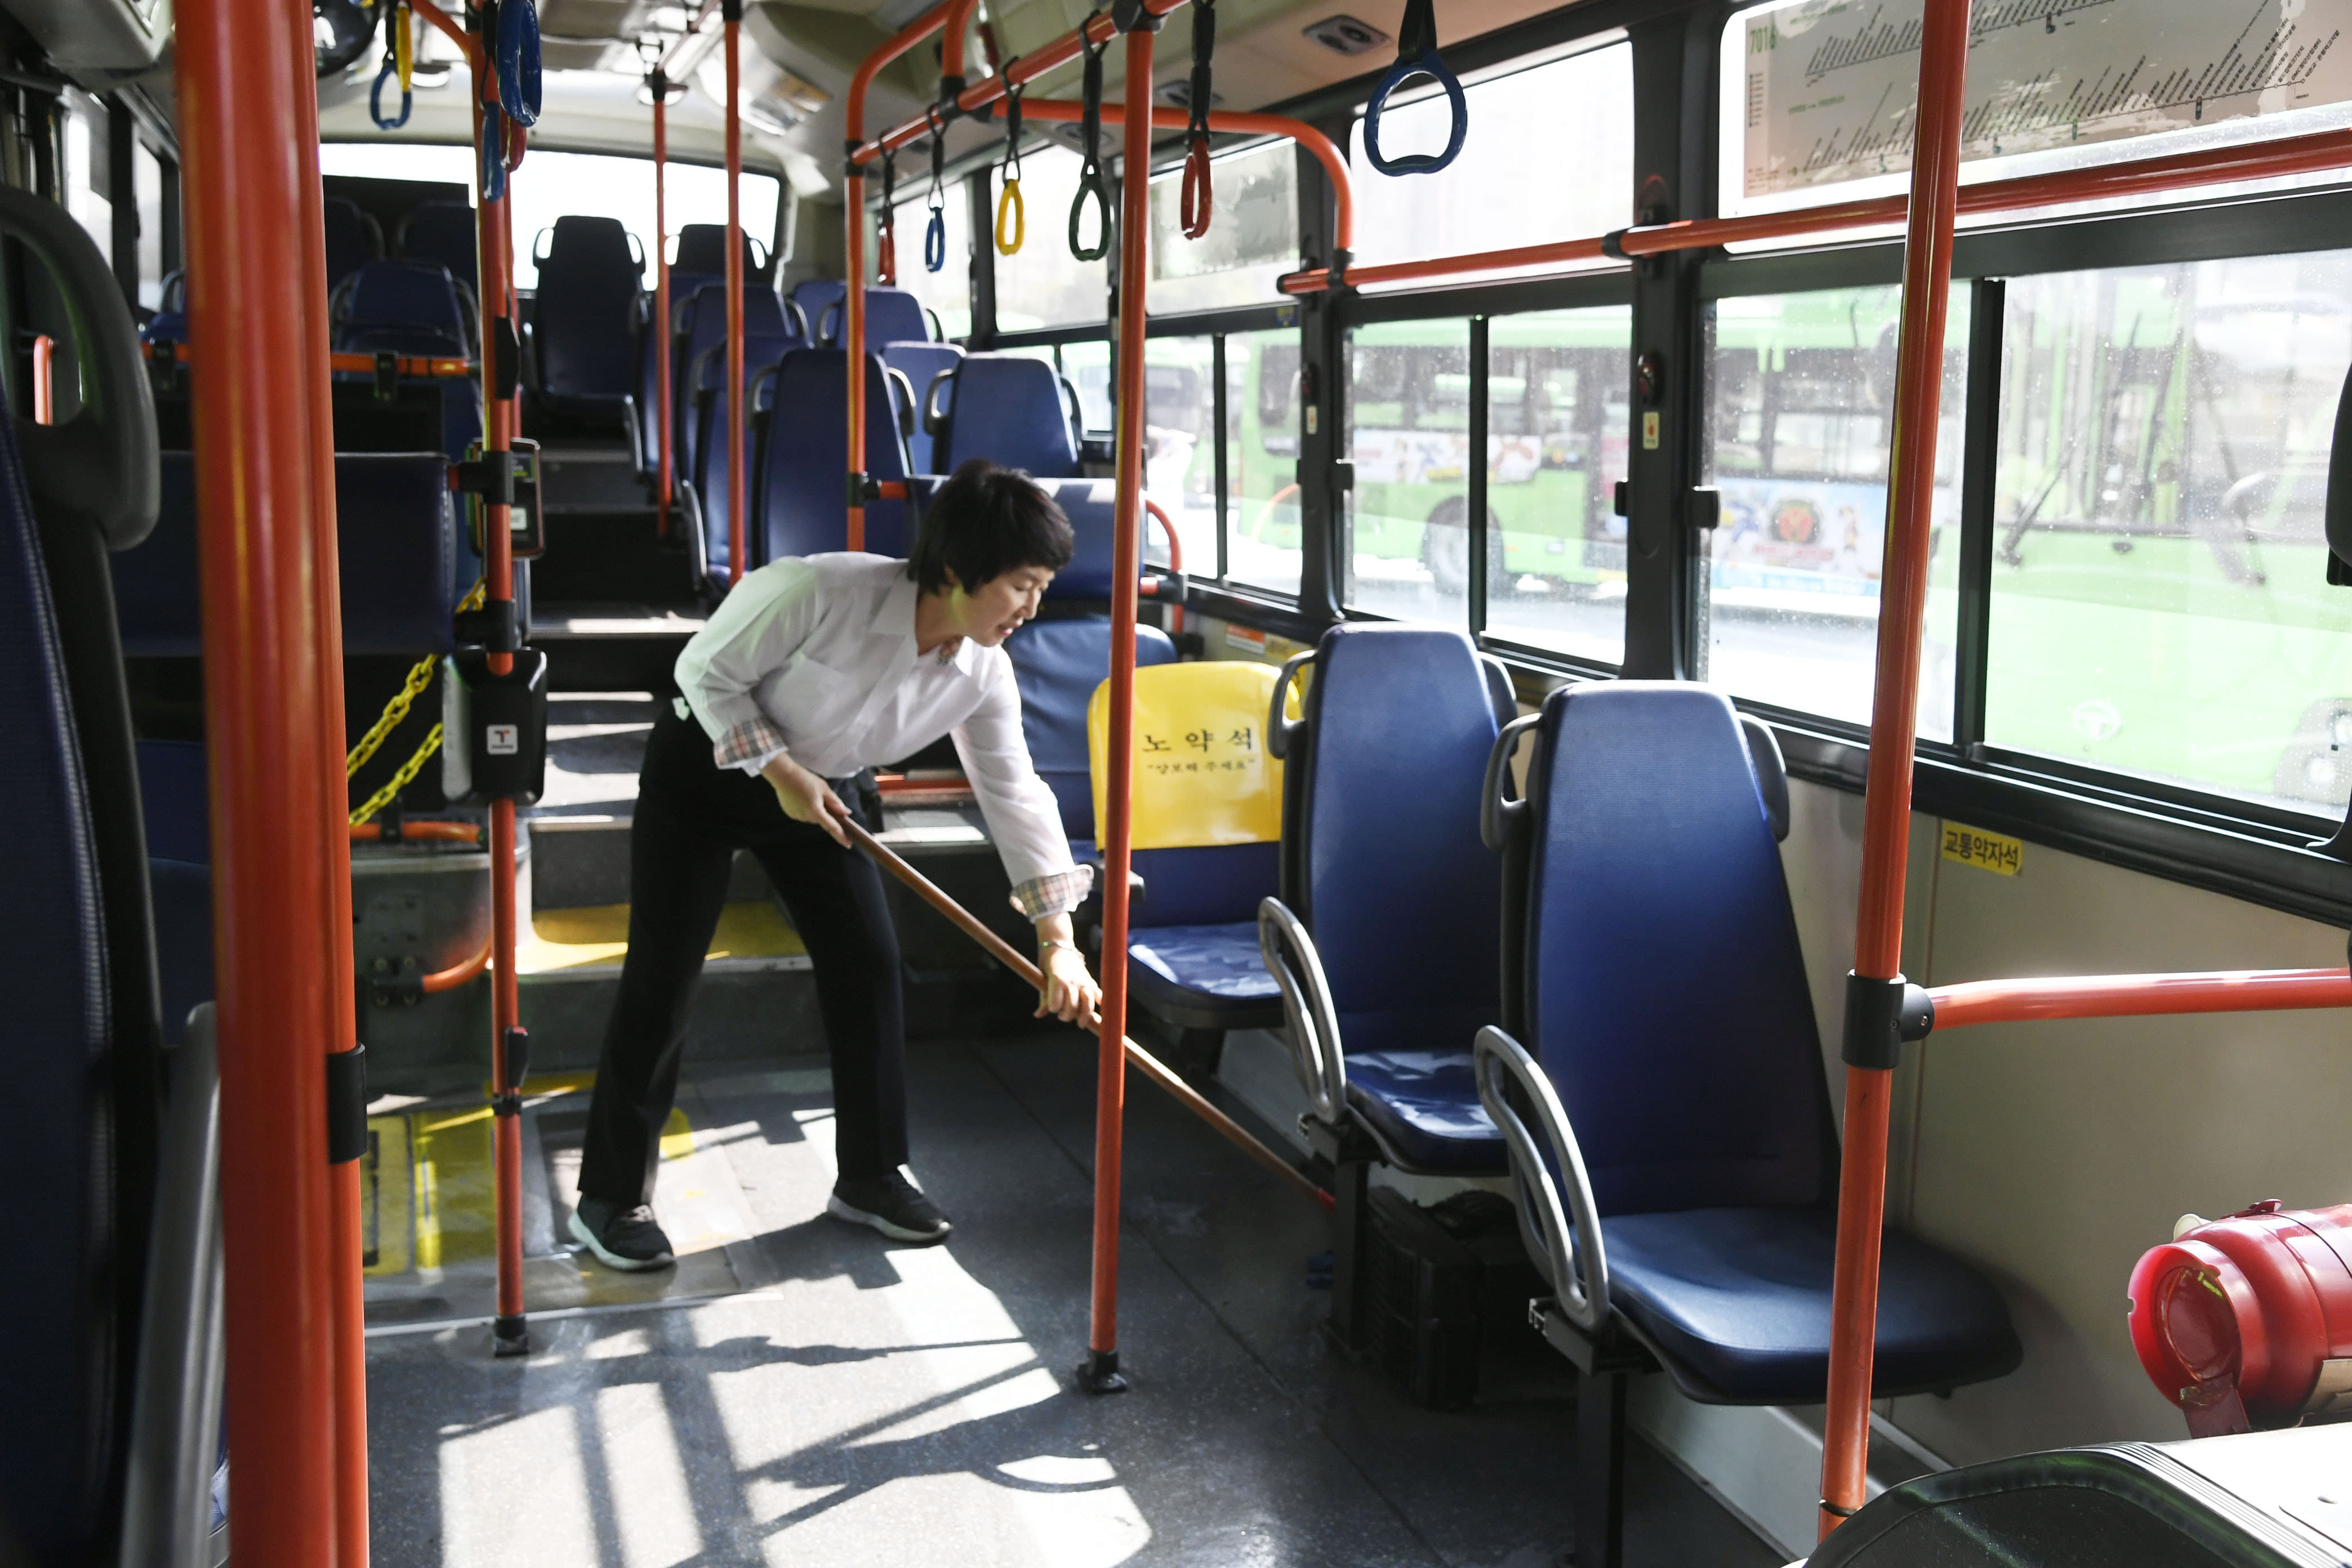seat: (1510, 681, 2005, 1388)
